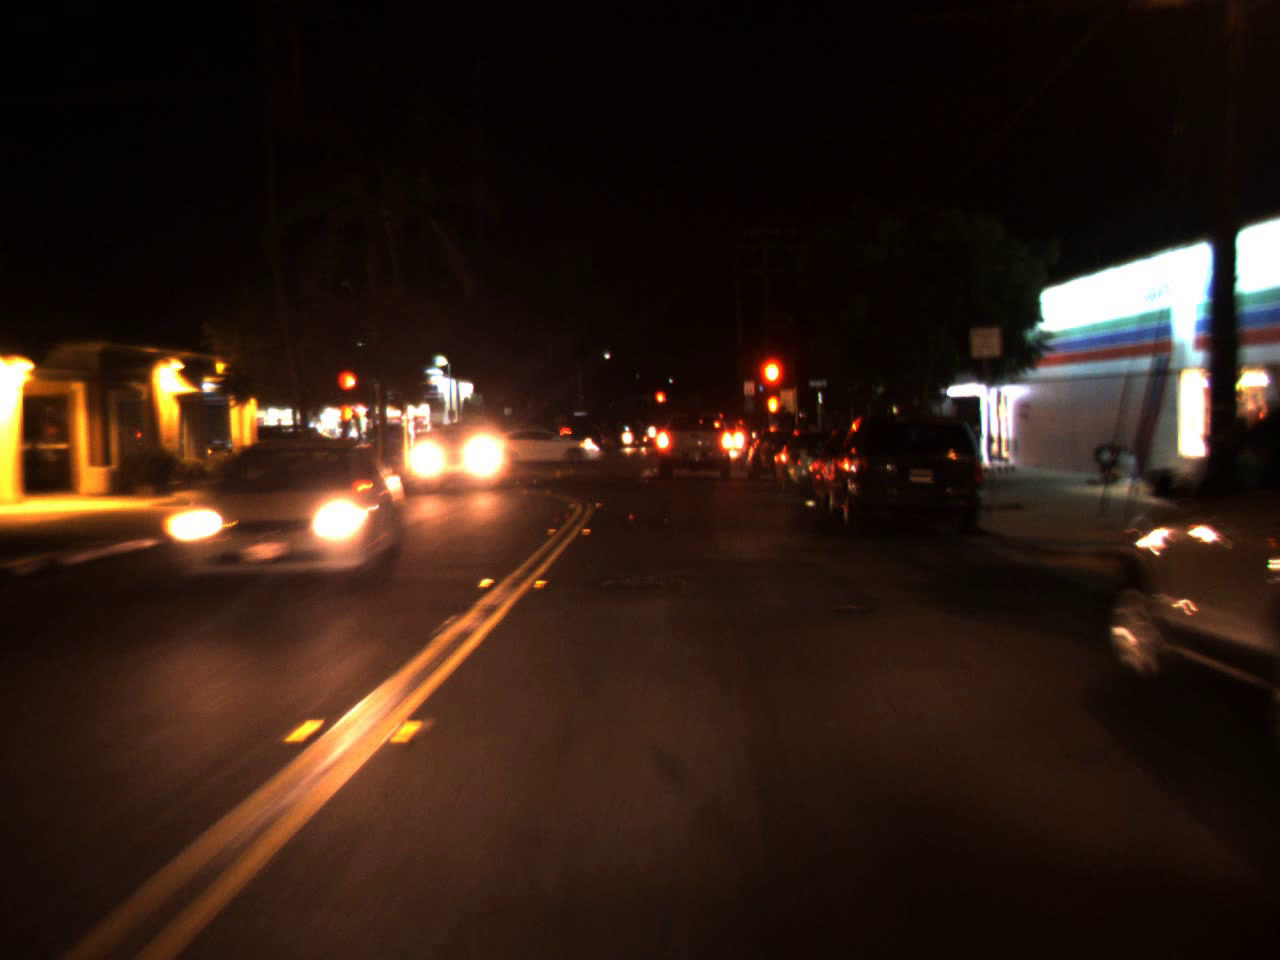stop: (754, 352, 788, 424), (336, 367, 360, 412), (653, 389, 666, 416)
